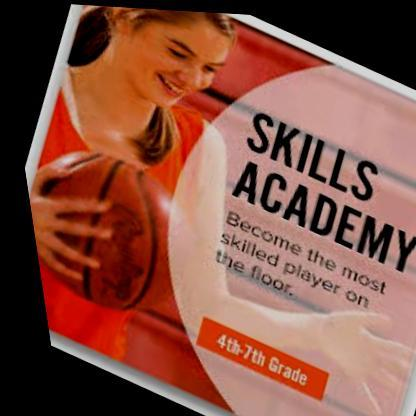basketball: (15, 127, 215, 336)
